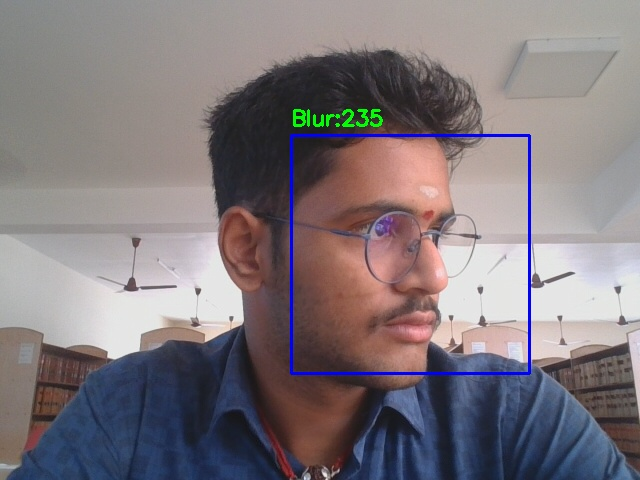real: (291, 135, 529, 373)
